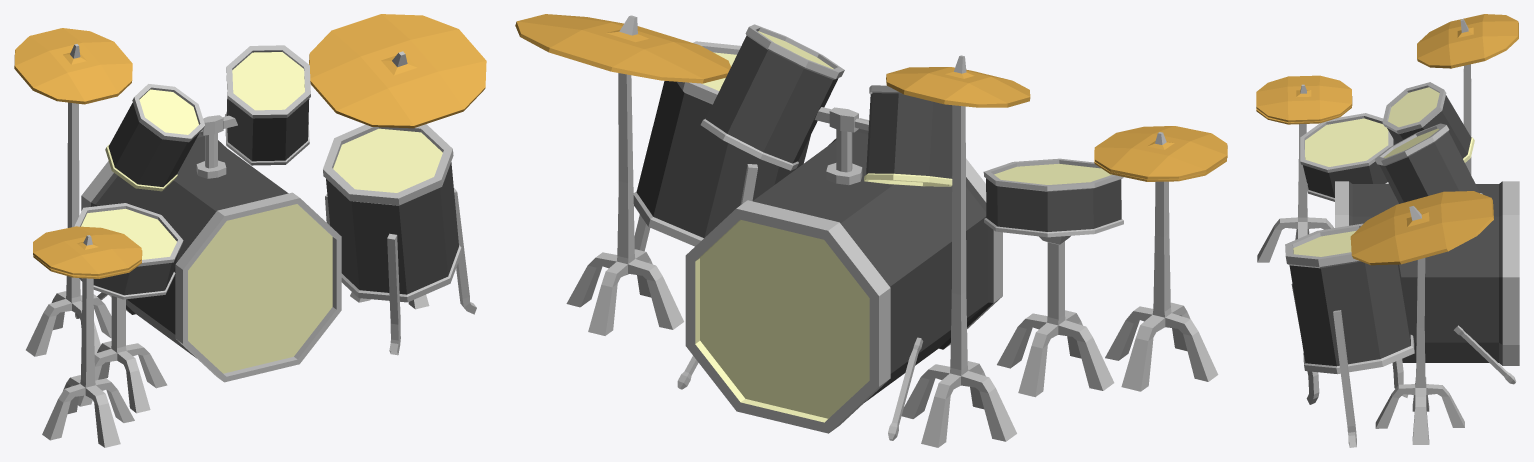
File: bateria.glb
The picture shows the model from 3 angles, left to right: view 1: azimuth 30°, elevation 25°; view 2: azimuth 150°, elevation 25°; view 3: azimuth 270°, elevation 25°; orthographic projection. The views are drawn at different scales.
Parts seen in each view (by area): view 1: Cube; view 2: Cube; view 3: Cube.
Boxes of the visible parts, <box> form: Cube: <box>14,14,486,447</box>; Cube: <box>515,14,1227,447</box>; Cube: <box>1256,14,1519,447</box>.
Size of the model in its own units: 5.85 by 3.45 by 2.95.
